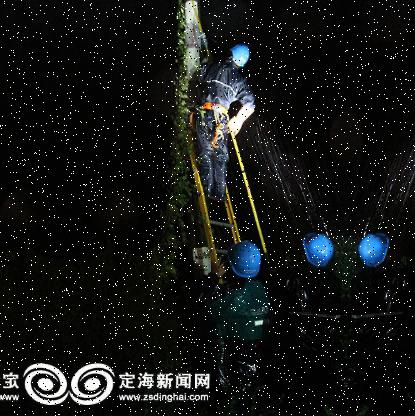helmet: (225, 241, 261, 282), (300, 232, 333, 266), (358, 232, 391, 266), (227, 40, 252, 68)
